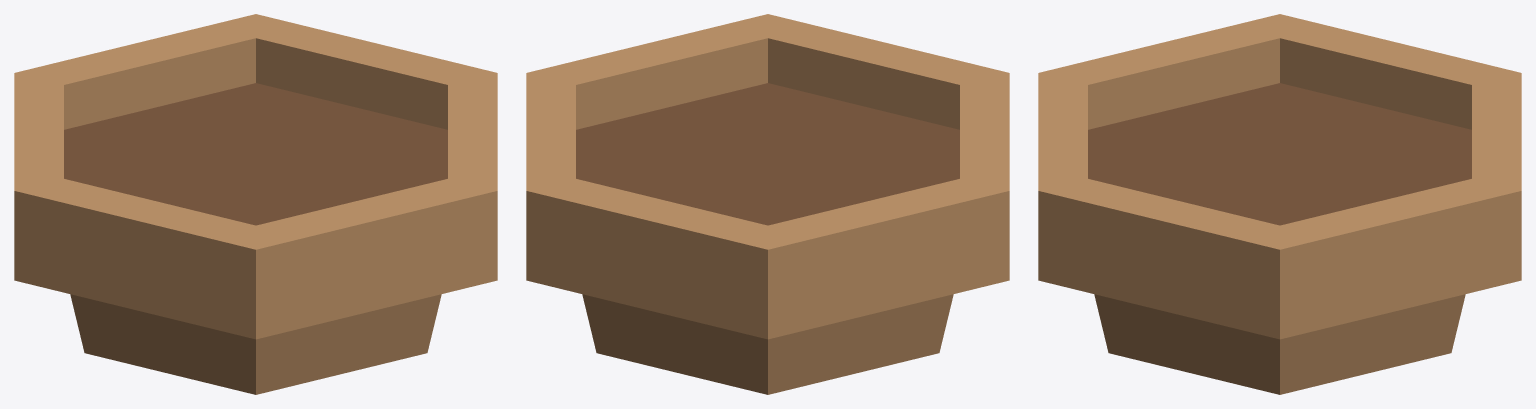
The model's file is nature_pot.glb.
3 views of the same model, side by side, from view 1: azimuth 30°, elevation 25°; view 2: azimuth 150°, elevation 25°; view 3: azimuth 270°, elevation 25° (orthographic).
Visible parts, largest first — view 1: pot_large; view 2: pot_large; view 3: pot_large.
Part boxes in pixels (box(x1,y1,x2,y2)): pot_large: box(14, 14, 497, 394); pot_large: box(526, 14, 1009, 394); pot_large: box(1038, 14, 1521, 394).
Size of the model in its own units: 0.9018 by 0.32 by 0.7809.
